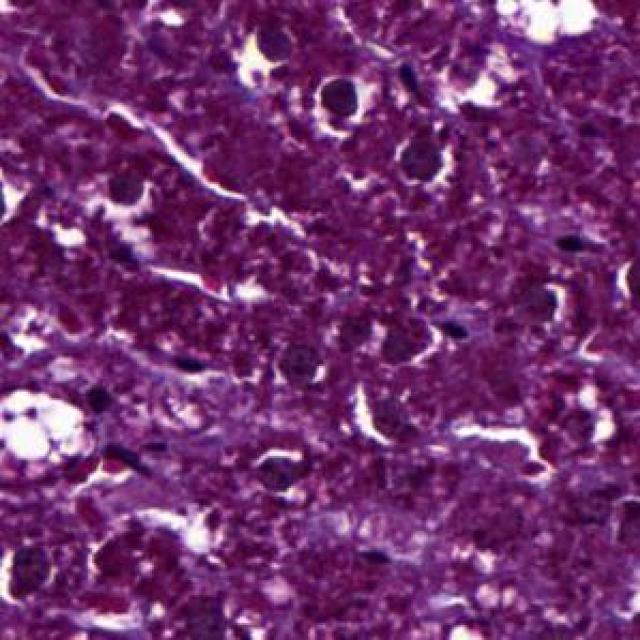inflammation: (308, 71, 383, 139), (236, 17, 308, 84), (248, 443, 312, 512), (389, 120, 452, 190), (84, 165, 154, 222), (0, 537, 54, 606)
